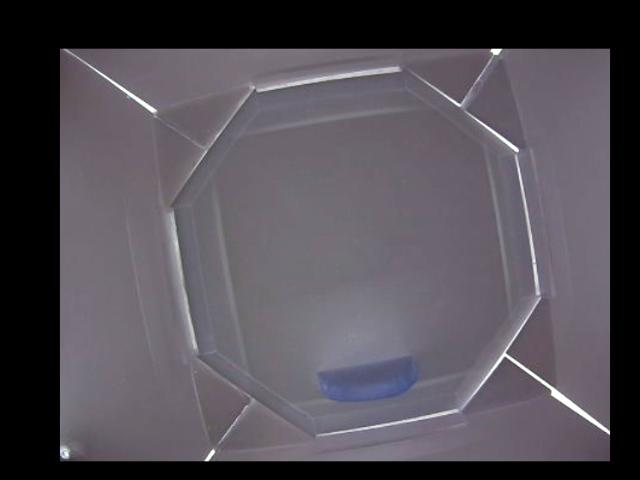Mooli: (315, 353, 417, 400)
